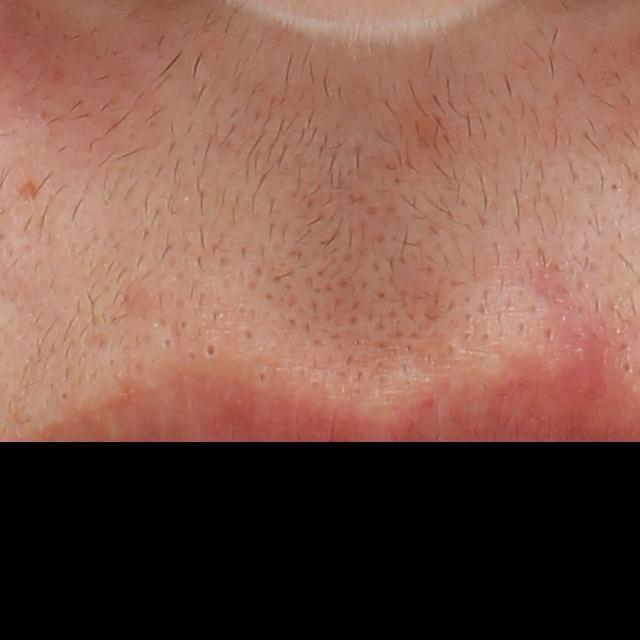atrophic_scar: (14, 177, 41, 204), (81, 334, 109, 351)
comedo: (201, 339, 218, 357)
